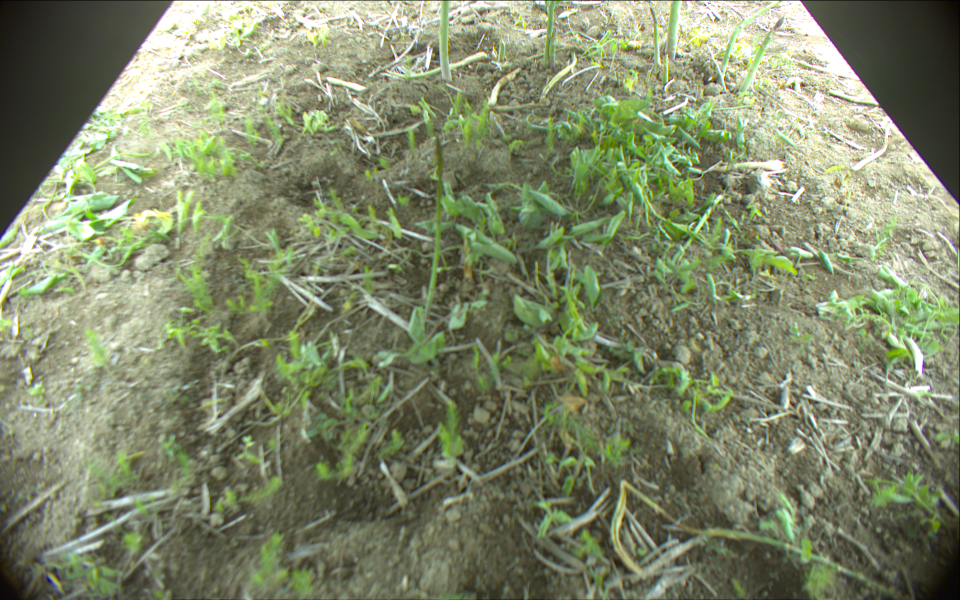aspa: (668, 526, 908, 600), (718, 1, 782, 82), (424, 136, 443, 322), (742, 21, 781, 90), (385, 52, 486, 78), (544, 51, 578, 100), (798, 61, 862, 82), (440, 1, 453, 80), (664, 1, 682, 56), (827, 89, 883, 105), (649, 5, 662, 68), (546, 1, 556, 64), (329, 78, 366, 92), (549, 29, 558, 67), (663, 53, 670, 87), (499, 38, 506, 59)
